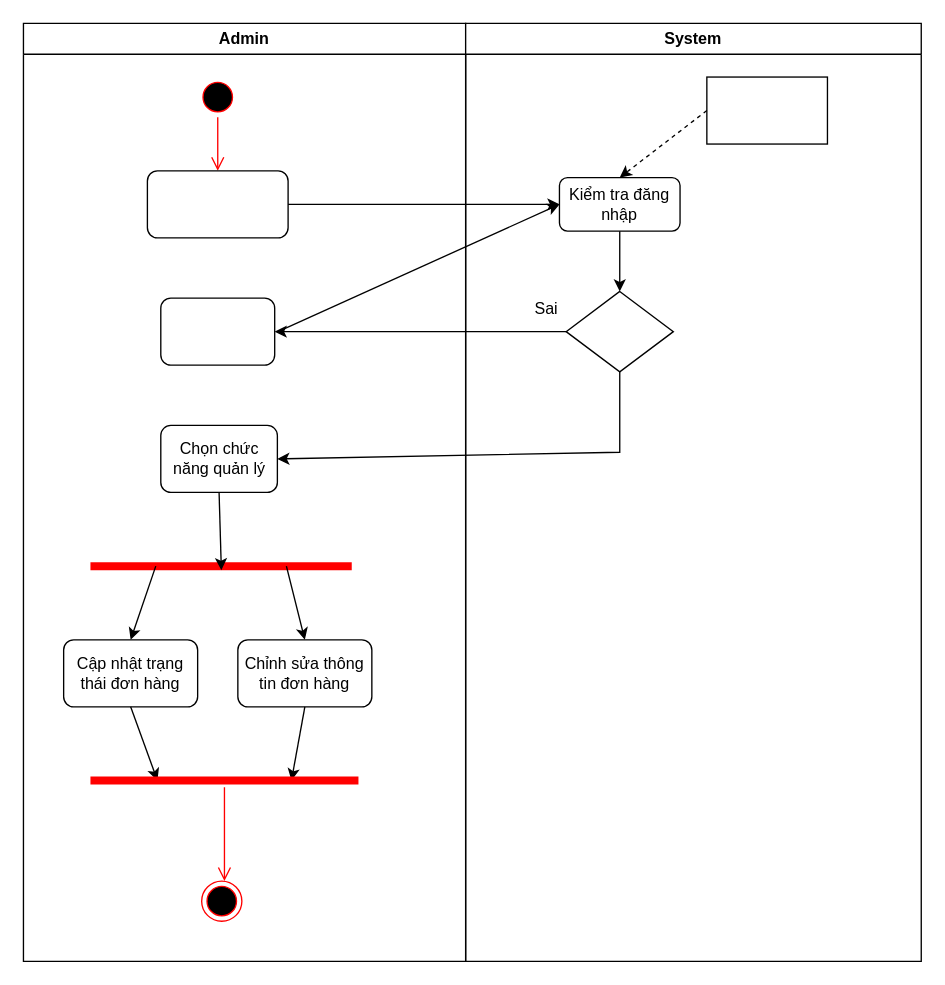
Image size: 945x985. Some labels were removed from this diagram. Here are the shapes that lost their labels. From the top down, the box of each, then its label:
(706, 76, 827, 144): Tài khoản
(146, 170, 288, 238): Chọn chức năng quản lý đơn đặt hàng
(159, 297, 275, 365): Yêu cầu đăng nhập
